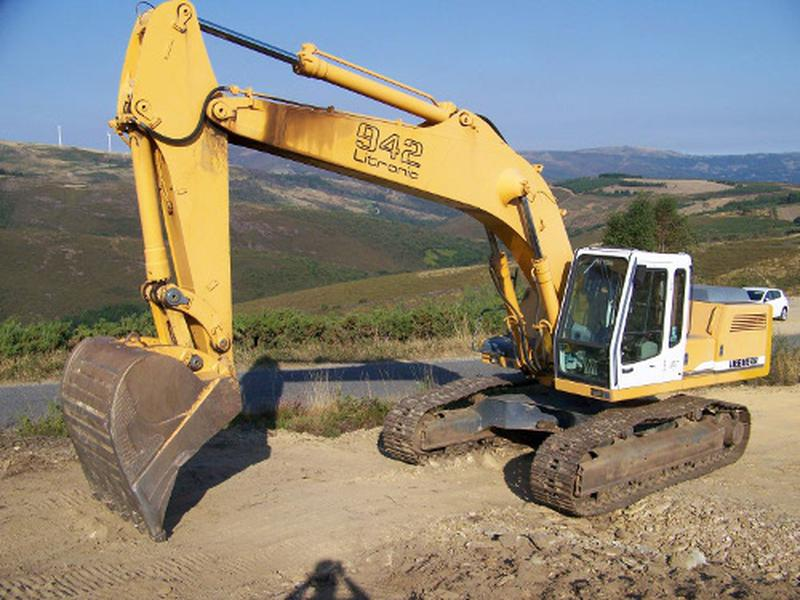shovel: (56, 1, 777, 543)
